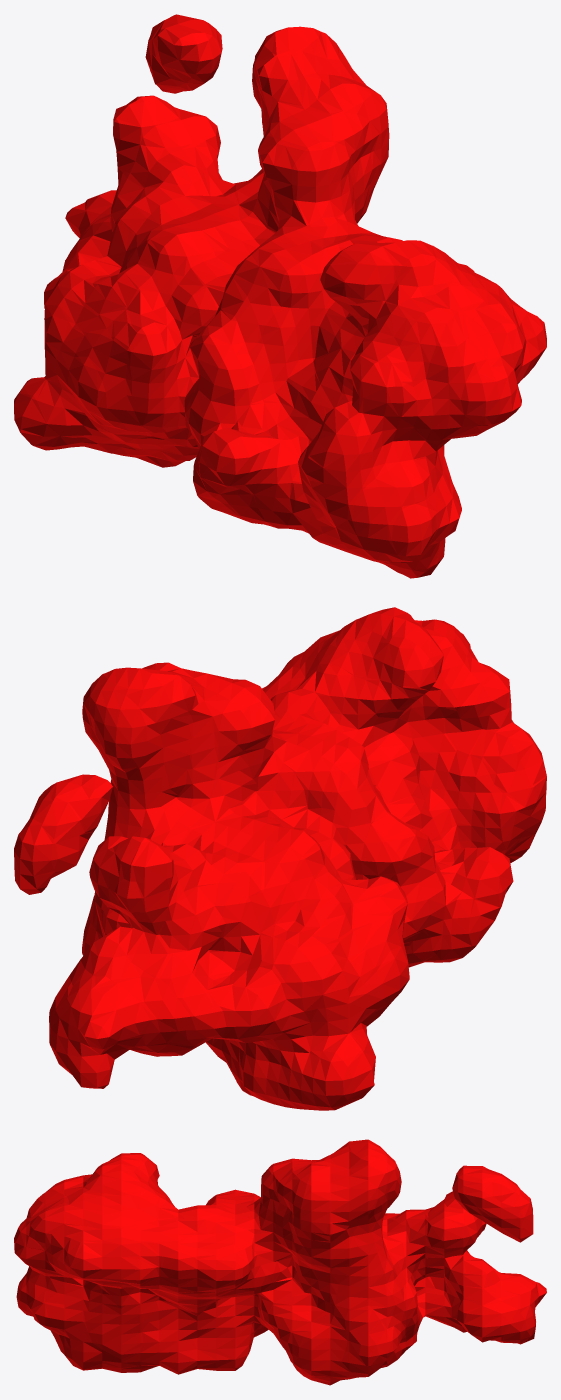
The model's file is hslV_coarse.dae.
3 views of the same model, one above another, from view 1: azimuth 30°, elevation 25°; view 2: azimuth 150°, elevation 25°; view 3: azimuth 270°, elevation 25° (orthographic). The views are drawn at different scales.
Visible parts, largest first — view 1: hslV; view 2: hslV; view 3: hslV.
Part boxes in pixels (x1,y1,x2,y2): hslV: [14, 14, 546, 578]; hslV: [14, 607, 546, 1110]; hslV: [14, 1139, 546, 1385].
Bounding box in the file's own units: 76 × 91.34 × 163.
